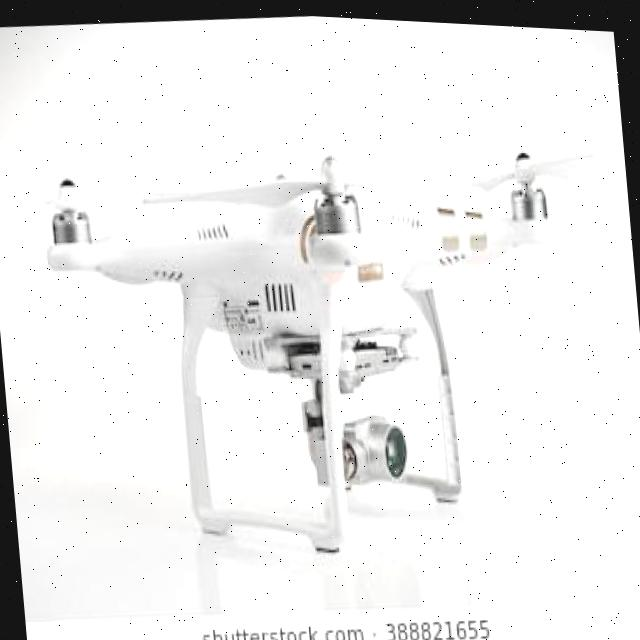drone: (29, 99, 624, 594)
